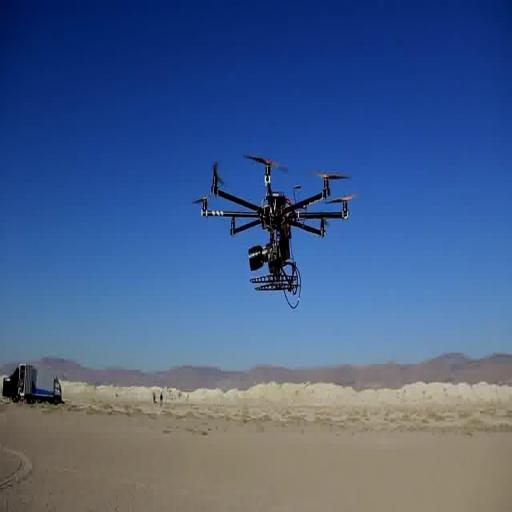drone: (191, 150, 356, 293)
